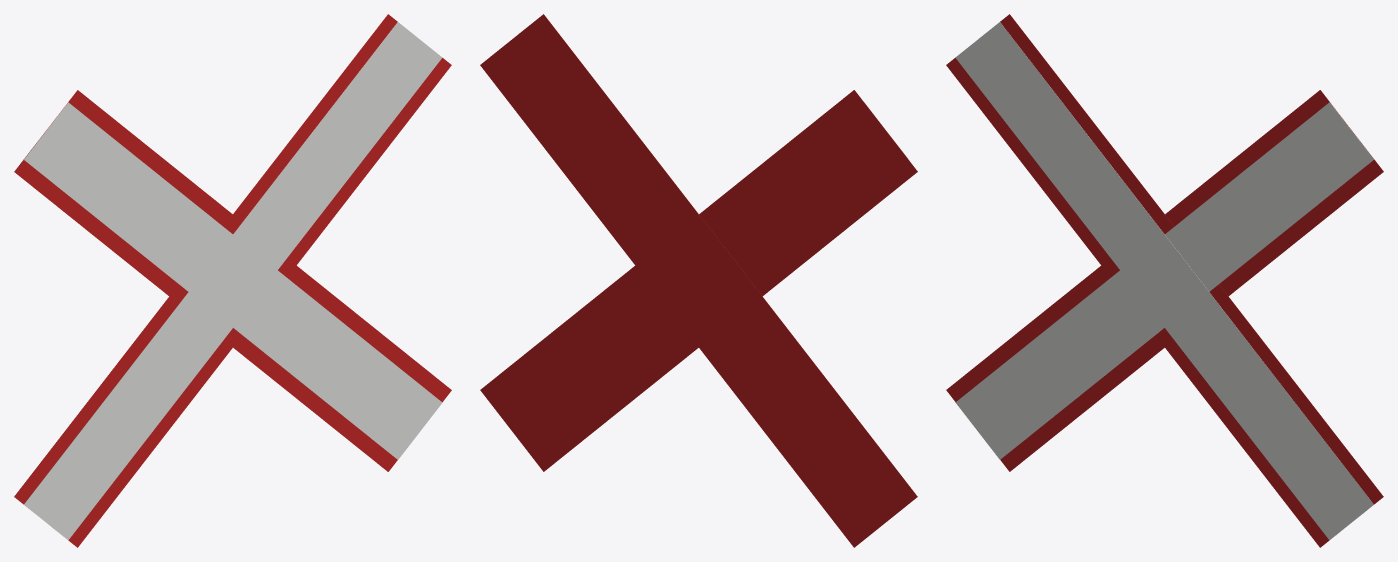
3 views of the same model, side by side, from view 1: azimuth 30°, elevation 25°; view 2: azimuth 150°, elevation 25°; view 3: azimuth 330°, elevation 25° (orthographic).
Parts seen in each view (by area): view 1: G1b_bras03, G1b_bras02, G1b_bras01, G1b_bras00; view 2: G1b_bras00, G1b_bras01; view 3: G1b_bras03, G1b_bras02, G1b_bras01, G1b_bras00.
Part boxes in pixels (<box>): G1b_bras03: <box>24,102,442,459</box>; G1b_bras02: <box>24,22,442,540</box>; G1b_bras01: <box>14,90,451,471</box>; G1b_bras00: <box>14,14,451,547</box>; G1b_bras00: <box>480,14,917,547</box>; G1b_bras01: <box>480,90,917,471</box>; G1b_bras03: <box>955,22,1373,540</box>; G1b_bras02: <box>955,102,1373,459</box>; G1b_bras01: <box>946,14,1383,547</box>; G1b_bras00: <box>946,90,1383,471</box>.
Size of the model in its own units: 0.9928 by 0.9928 by 0.0016.
